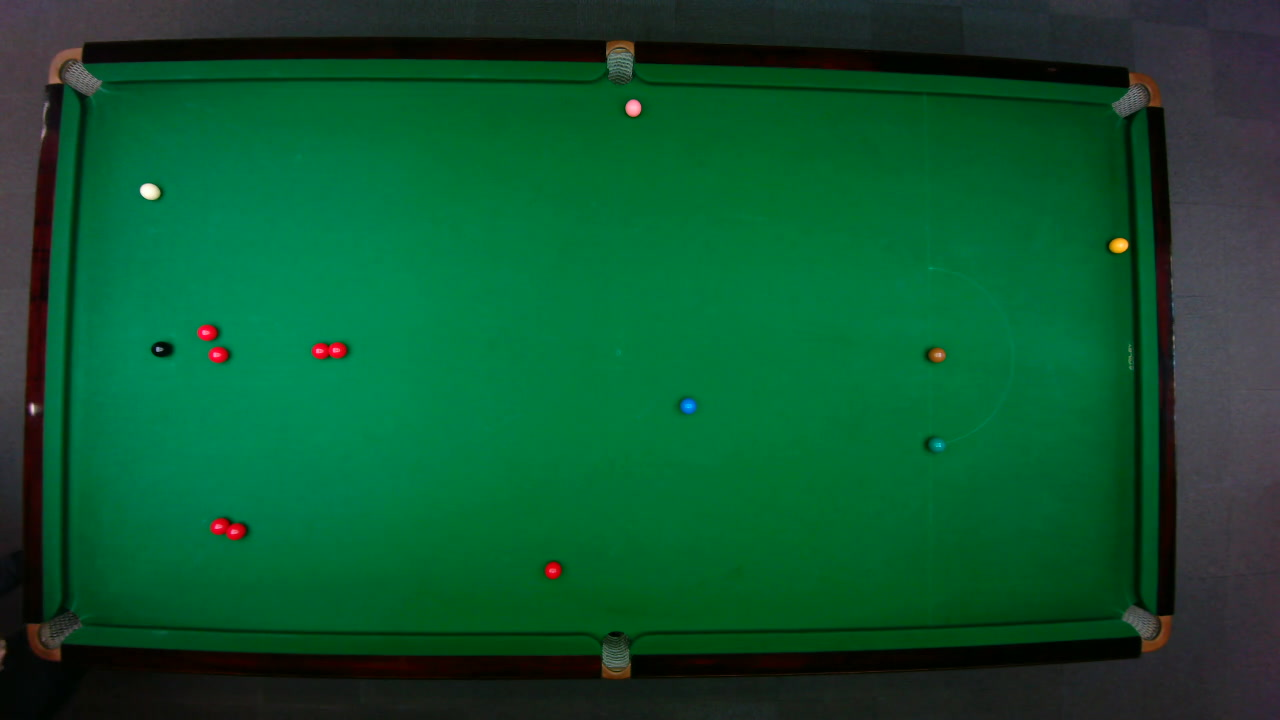bag: (25, 608, 82, 660), (46, 46, 102, 96), (1119, 603, 1171, 652), (1109, 71, 1161, 118), (600, 629, 629, 680), (605, 39, 633, 85)
black: (149, 339, 171, 357)
blue: (678, 396, 696, 414)
brown: (926, 346, 945, 362)
green: (925, 435, 946, 453)
pink: (623, 97, 642, 117)
red: (224, 520, 247, 540), (208, 516, 230, 536), (195, 322, 218, 341), (325, 340, 347, 359), (542, 559, 562, 579), (207, 345, 229, 363), (310, 341, 330, 359)
white: (137, 181, 161, 200)
yellow: (1107, 236, 1129, 253)
zone: (926, 265, 1013, 445)
